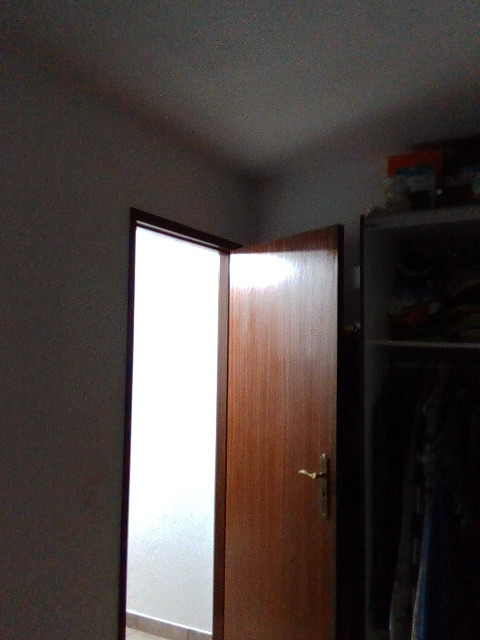open: (116, 209, 345, 639)
